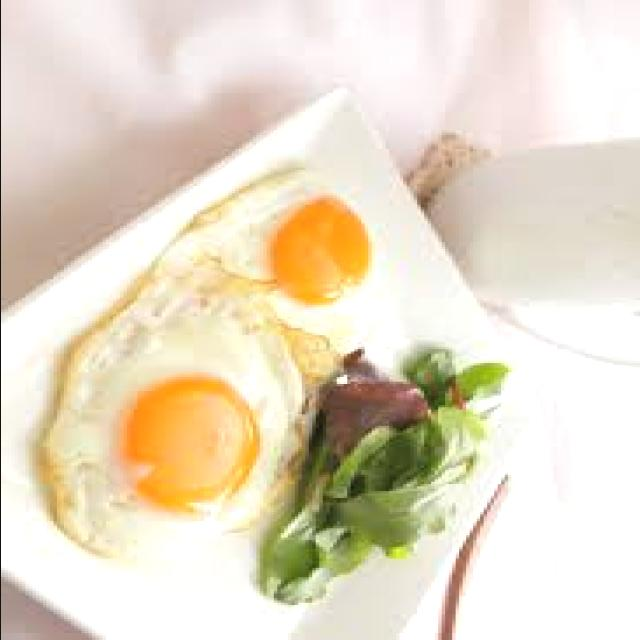telur ceplok: (38, 293, 304, 563), (189, 172, 374, 356)
